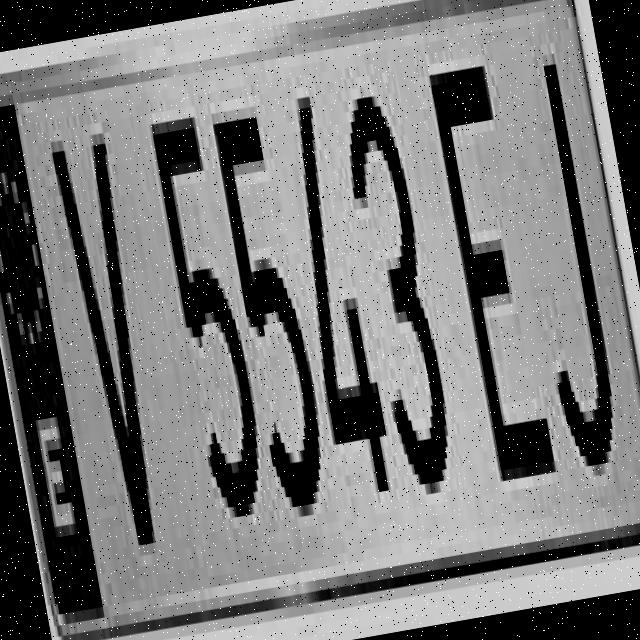EU: (0, 0, 640, 633)
Espagne: (0, 88, 107, 620)
